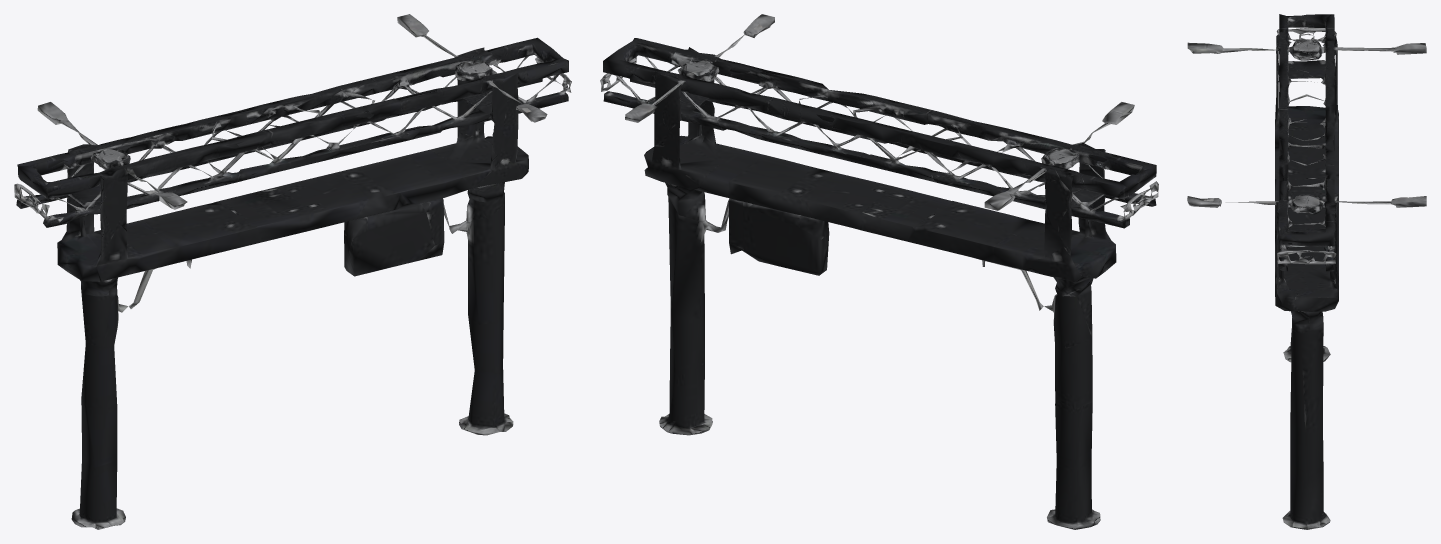
The model's file is gantry_b_p.glb.
3 views of the same model, side by side, from view 1: azimuth 30°, elevation 25°; view 2: azimuth 150°, elevation 25°; view 3: azimuth 270°, elevation 25° (orthographic). The views are drawn at different scales.
Bounding box in the file's own units: 1.89 × 1.24 × 0.8533.
Materials: 1 (1 with a texture image).
